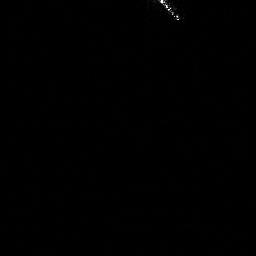ship: (155, 1, 183, 22)
